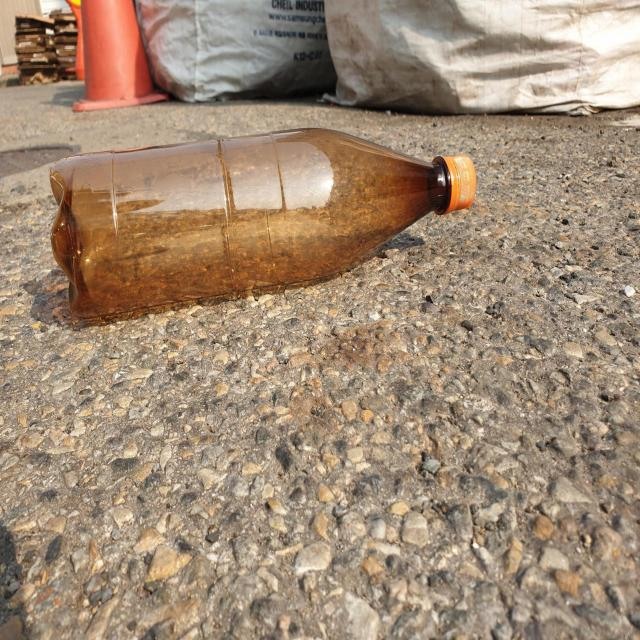plastic: (49, 128, 477, 320)
